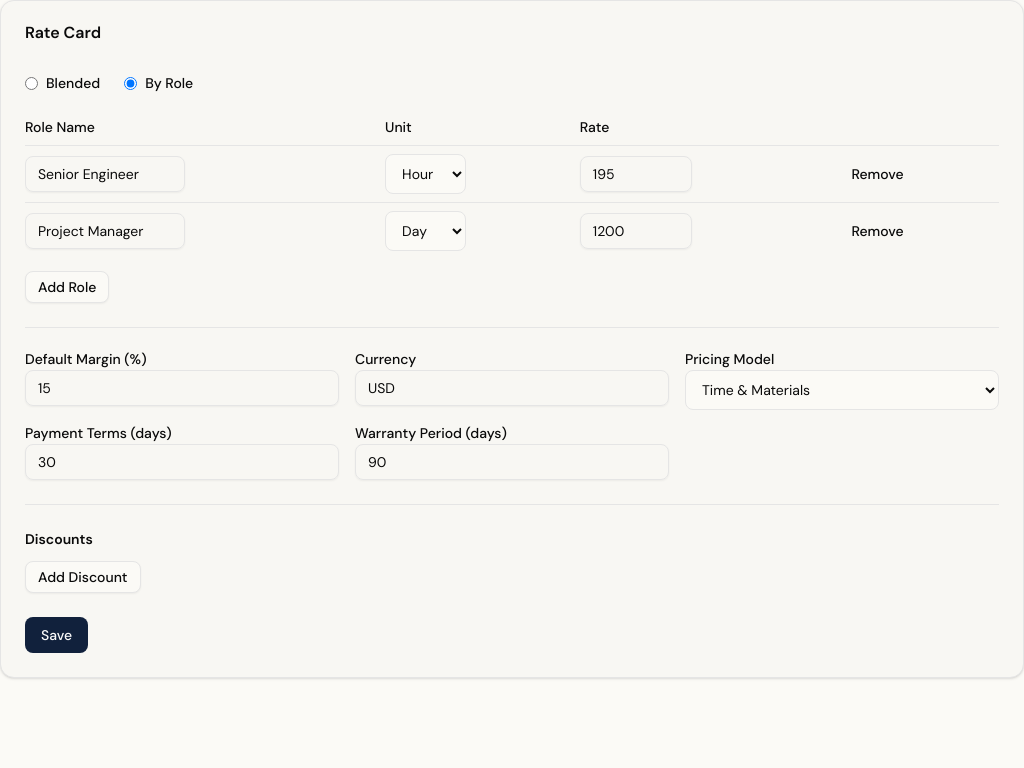
Test: Interaction tests › clicking "Add Role" button adds a new empty row
Click the button "Add Role". click: (67, 287)
box: [25,271,109,303]
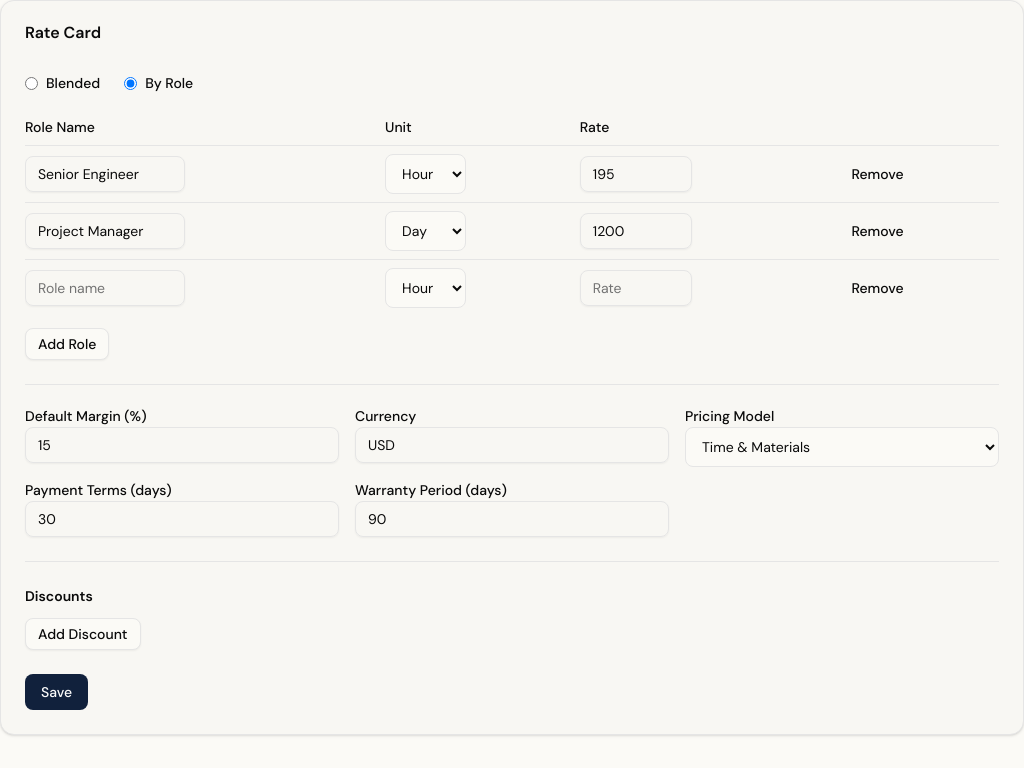
Expected: the number of fields with placeholder "Role name" is 3, [25,156,185,192]; [25,213,185,249]; [25,270,185,306]
